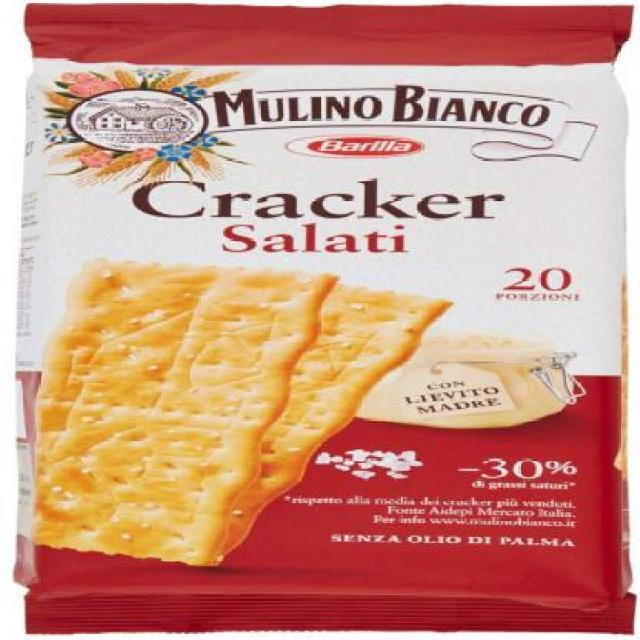Cracker: (14, 39, 628, 606)
